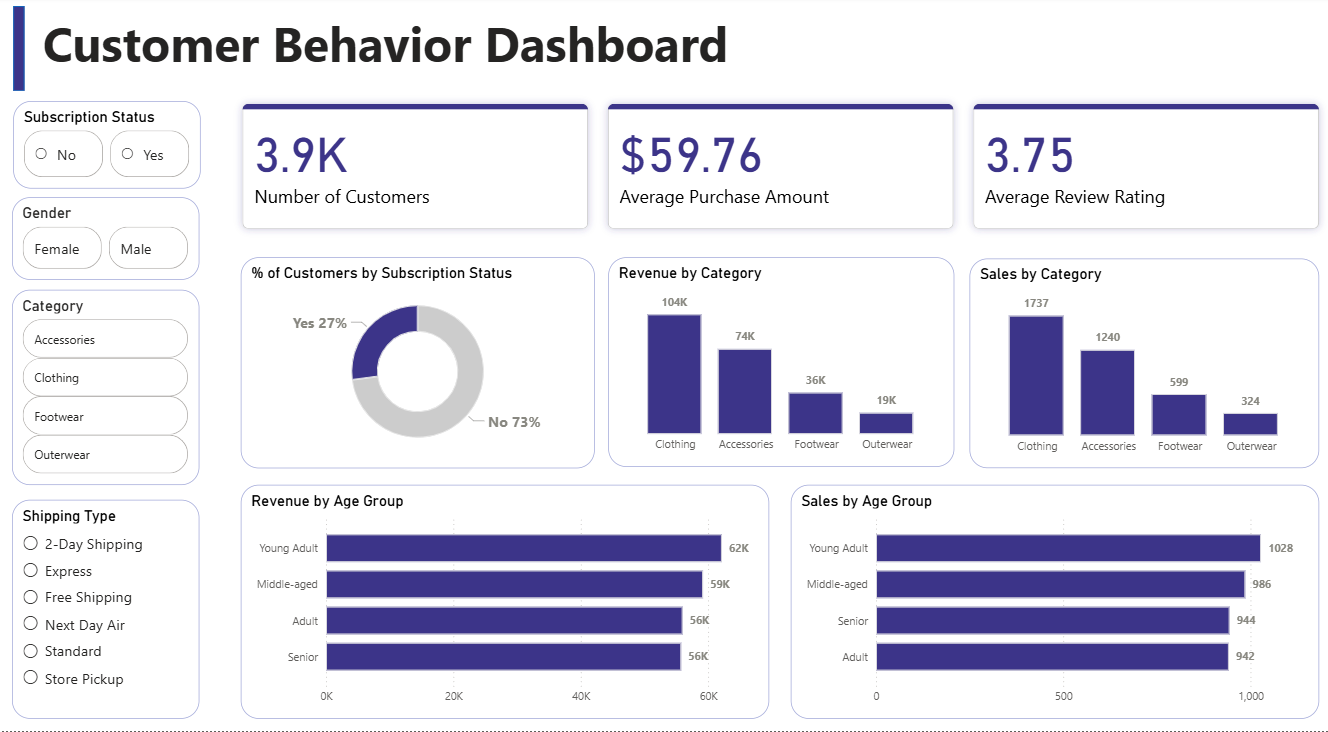

What the dashboard file says about the page in this screenshot:
{"tool":"powerbi","page":{"name":"Page 1","canvas":[1500,820],"ordinal":0},"visuals":[{"type":"shape","box":[23.7,11.1,12.5,94.7],"z":9000},{"type":"clusteredBarChart","title":"Sales by Age Group","fields":{"Category":["customer_behavior customer.age_group"],"Y":["CountNonNull(customer_behavior customer.customer_id)"]},"box":[889.9,544.5,589.1,260.4],"z":14000},{"type":"clusteredBarChart","title":"Revenue by Age Group","fields":{"Category":["customer_behavior customer.age_group"],"Y":["Sum(customer_behavior customer.purchase_amount)"]},"box":[277.1,544.5,589.1,260.4],"z":16000},{"type":"clusteredColumnChart","title":"Sales by Category","fields":{"Category":["customer_behavior customer.category"],"Y":["CountNonNull(customer_behavior customer.customer_id)"]},"box":[1089.1,292.5,389.9,234],"z":16156},{"type":"clusteredColumnChart","title":"Revenue by Category","fields":{"Y":["Sum(customer_behavior customer.purchase_amount)"],"Category":["customer_behavior customer.category"]},"box":[686.6,291.1,385.8,234],"z":16312},{"type":"donutChart","title":"% of Customers by Subscription Status","fields":{"Category":["customer_behavior customer.subscription_status"],"Y":["CountNonNull(customer_behavior customer.customer_id)"]},"box":[277.1,291.1,394.1,235.4],"z":16625},{"type":"cardVisual","fields":{"Data":["customer_behavior customer.Number of Customers","customer_behavior customer.Average Purchase Amount","customer_behavior customer.Average Review Rating"]},"box":[263.2,104.5,1231.1,171.3],"z":16937},{"type":"advancedSlicerVisual","fields":{"Values":["customer_behavior customer.gender"]},"box":[22.3,224.2,208.9,91.9],"z":17250},{"type":"listSlicer","fields":{"Values":["customer_behavior customer.shipping_type"]},"box":[22.3,561.2,208.9,243.7],"z":17312},{"type":"advancedSlicerVisual","fields":{"Values":["customer_behavior customer.category"]},"box":[22.3,327.3,208.9,217.3],"z":17375},{"type":"advancedSlicerVisual","fields":{"Values":["customer_behavior customer.subscription_status"]},"box":[23.7,117,208.9,97.5],"z":17500},{"type":"textbox","box":[51.5,11.1,1427.5,94.7],"z":18000}]}

Visuals, with their boxes in screenshot pixels (x1, y1, x2, y2), scaled from the page's 1500x820 canvas onto the 1328x732 screenshot:
shape: 21,10,32,94
"Sales by Age Group" clusteredBarChart: 788,486,1309,719
"Revenue by Age Group" clusteredBarChart: 245,486,767,719
"Sales by Category" clusteredColumnChart: 964,261,1309,470
"Revenue by Category" clusteredColumnChart: 608,260,949,469
"% of Customers by Subscription Status" donutChart: 245,260,594,470
cardVisual - customer_behavior customer.Number of Customers x customer_behavior customer.Average Purchase Amount: 233,93,1323,246
advancedSlicerVisual - customer_behavior customer.gender: 20,200,205,282
listSlicer - customer_behavior customer.shipping_type: 20,501,205,719
advancedSlicerVisual - customer_behavior customer.category: 20,292,205,486
advancedSlicerVisual - customer_behavior customer.subscription_status: 21,104,206,191
textbox: 46,10,1309,94
